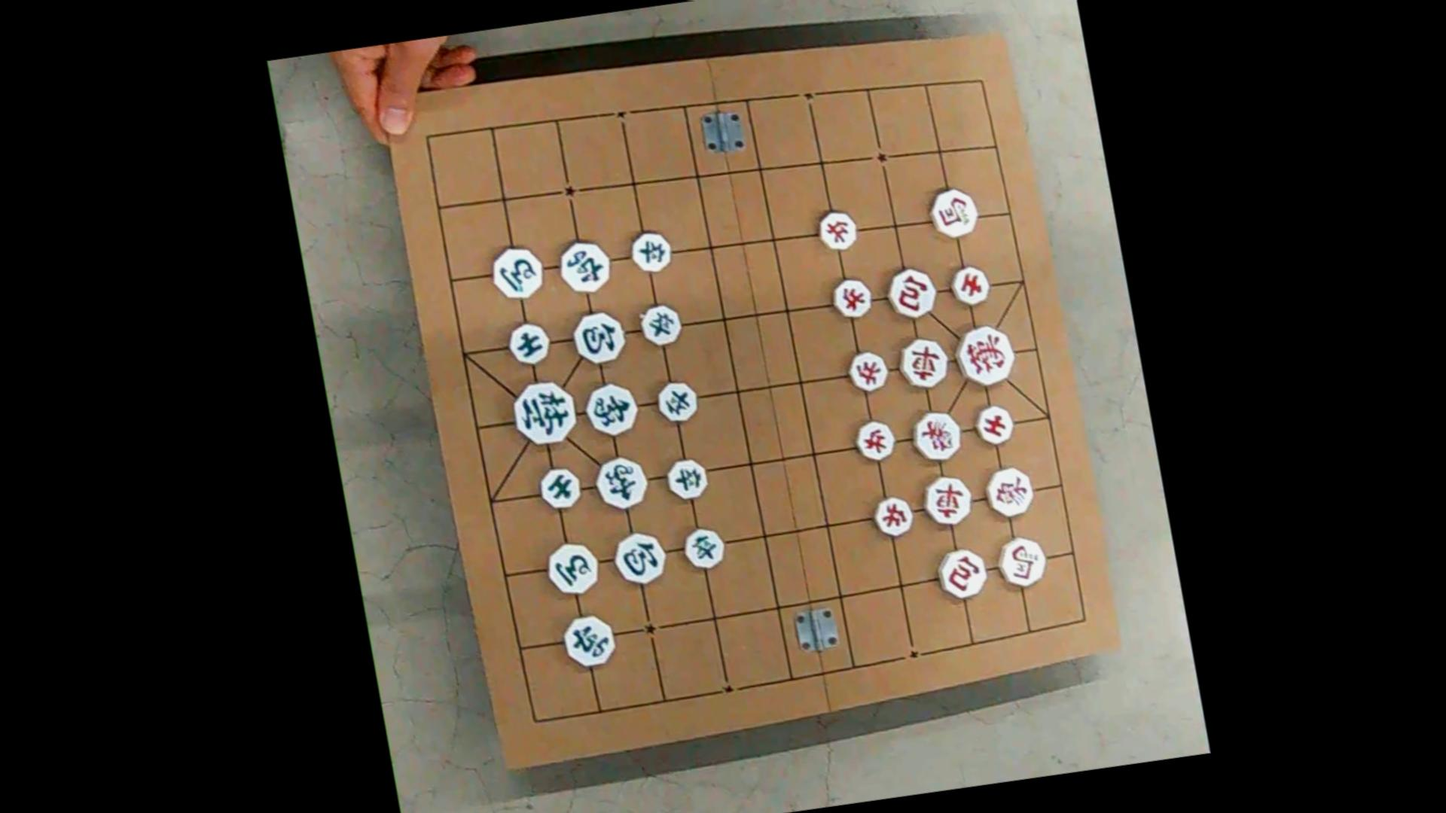cha_green: (554, 237, 613, 294), (560, 612, 617, 668)
cha_red: (894, 335, 950, 389), (918, 474, 973, 527)
jol_green: (636, 302, 684, 347), (681, 526, 727, 570), (654, 379, 699, 423), (627, 230, 673, 273), (664, 458, 709, 501)
jol_red: (869, 494, 915, 538), (844, 349, 889, 393), (828, 276, 874, 319), (852, 419, 896, 462), (814, 209, 859, 251)
ma_green: (488, 244, 545, 300), (543, 540, 601, 595)
ma_red: (993, 534, 1048, 589), (926, 186, 980, 239)
po_green: (568, 309, 628, 365), (611, 531, 667, 586)
po_red: (882, 265, 938, 320), (934, 547, 989, 599)
sa_green: (535, 466, 582, 510), (505, 321, 551, 364)
sa_red: (947, 263, 992, 308), (971, 403, 1014, 446)
sang_green: (590, 455, 651, 511), (581, 380, 640, 437)
sang_red: (908, 409, 963, 462), (981, 466, 1034, 518)
wang_green: (507, 378, 581, 448)
wang_red: (951, 324, 1018, 388)
